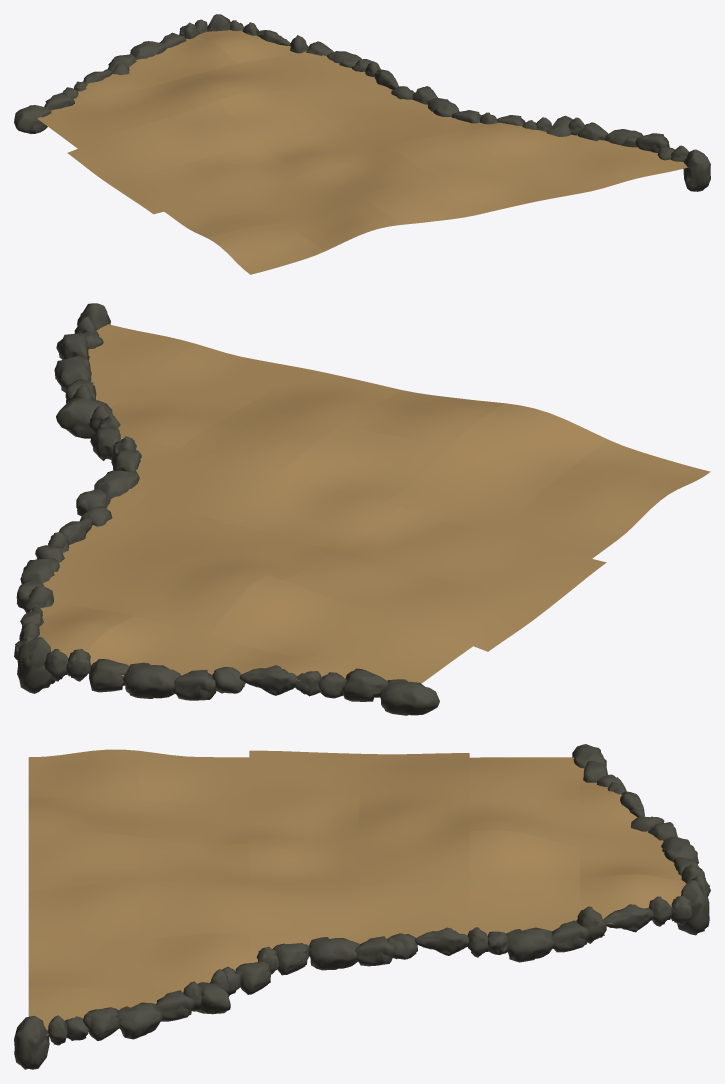
The model's file is big_ground_04.fbx.
3 renders of one model, top to bottom at view 1: azimuth 30°, elevation 25°; view 2: azimuth 150°, elevation 25°; view 3: azimuth 270°, elevation 25°, orthographic. The views are drawn at different scales.
Parts seen in each view (by area): view 1: polySurface_big_ground_04; view 2: polySurface_big_ground_04; view 3: polySurface_big_ground_04.
Part boxes in pixels (left/top/right/bottom): polySurface_big_ground_04: left=14, top=14, right=710, bottom=274; polySurface_big_ground_04: left=14, top=303, right=710, bottom=715; polySurface_big_ground_04: left=14, top=744, right=710, bottom=1069.
Size of the model in its own units: 276 by 23.07 by 274.
